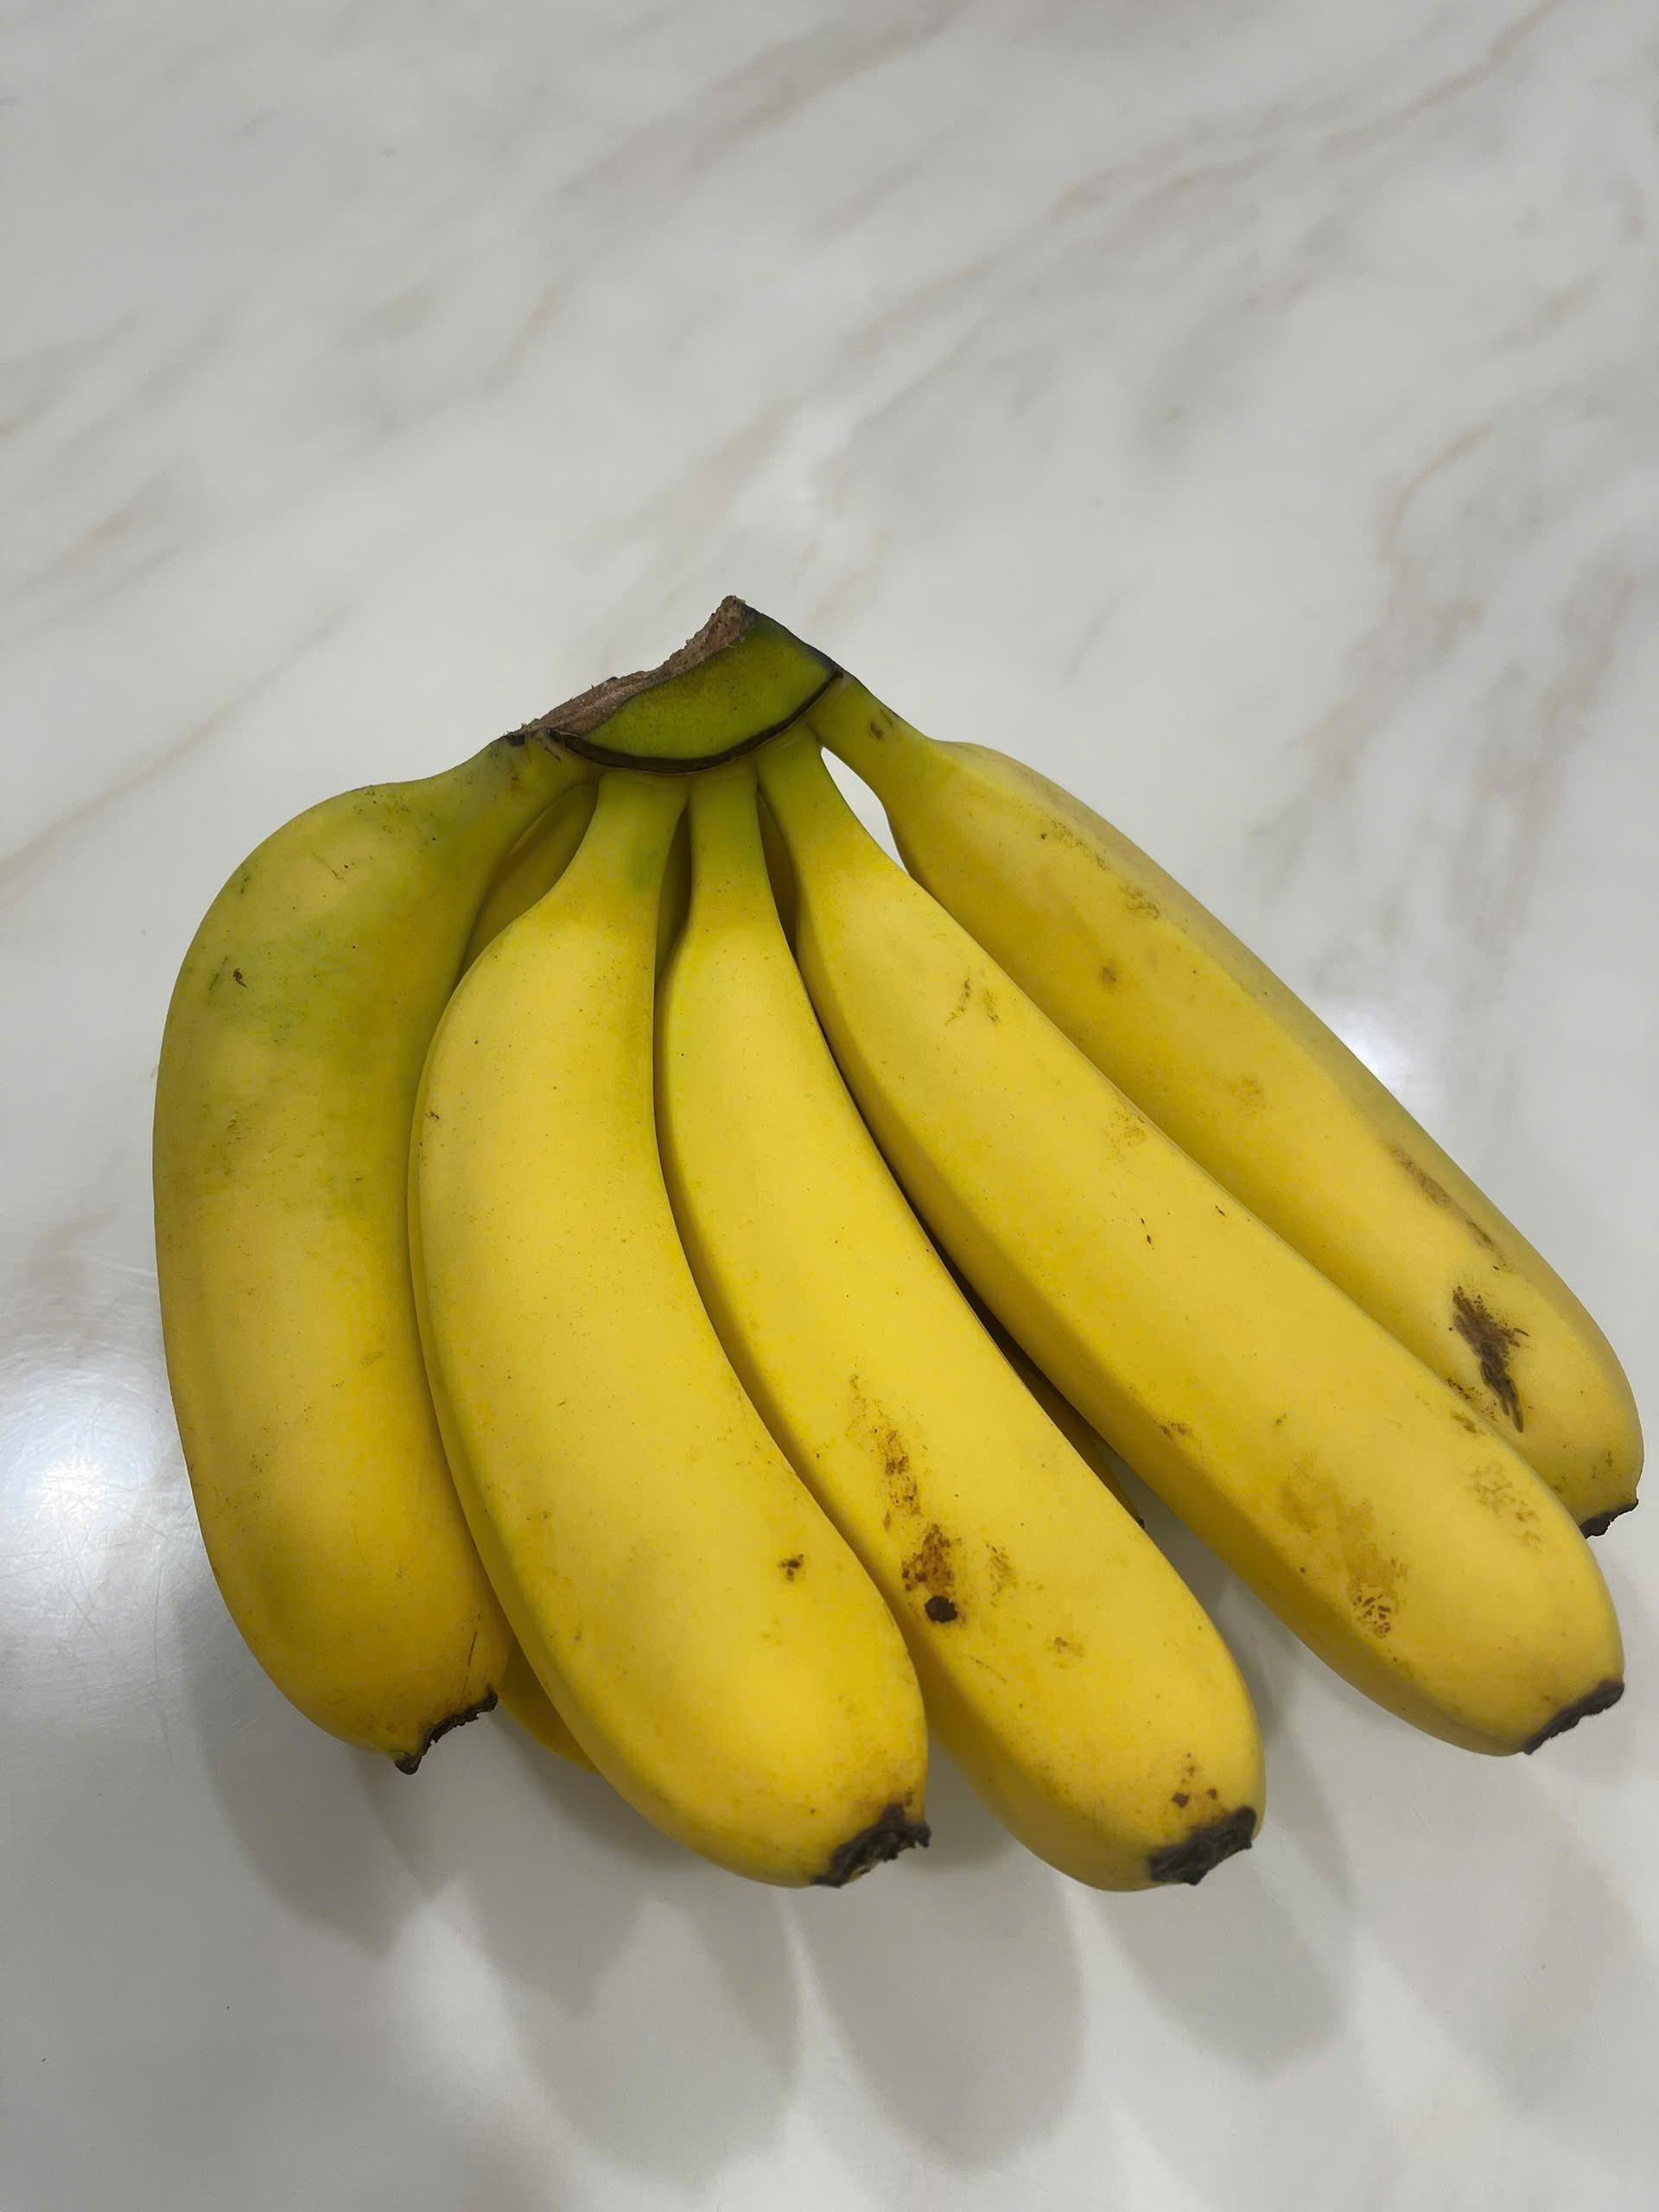banana: (98, 542, 1659, 1942), (392, 744, 939, 1888)
